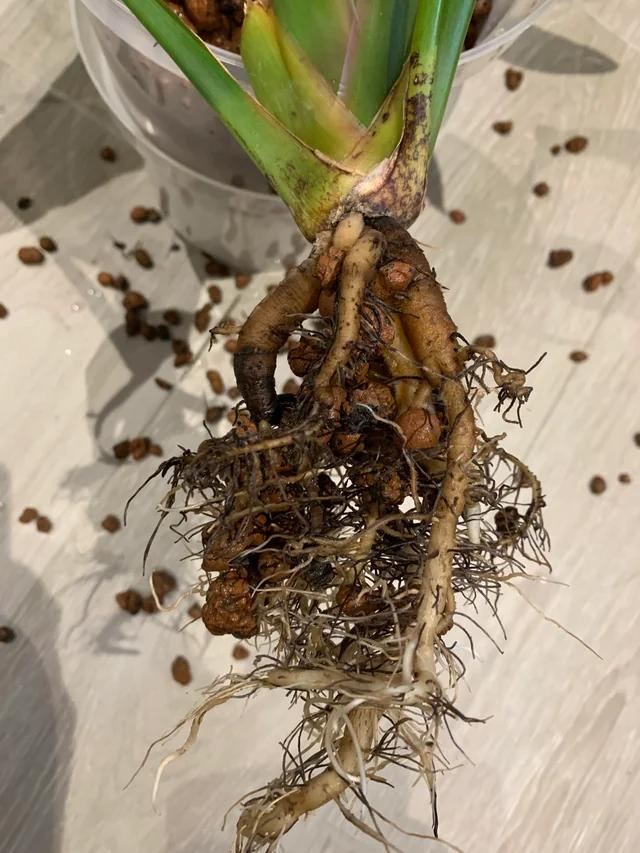root_rot: (97, 54, 557, 853)
